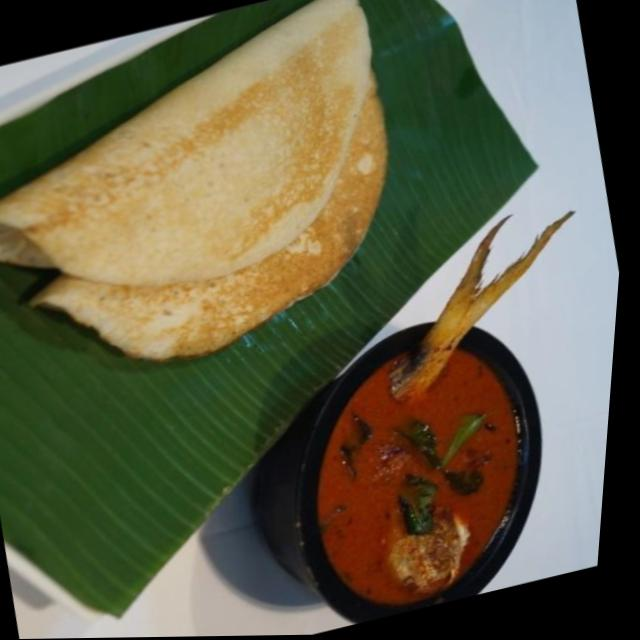FISH CURRY: (317, 207, 574, 604)
